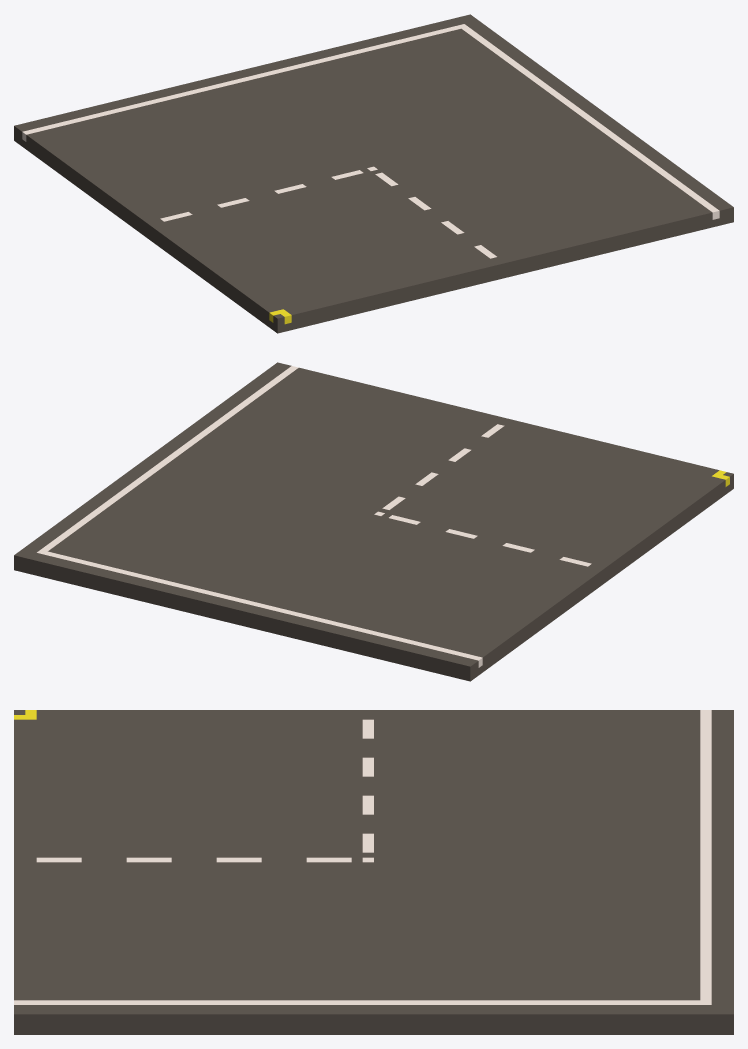
File: road_a_corner.obj
3 renders of one model, top to bottom at view 1: azimuth 30°, elevation 25°; view 2: azimuth 150°, elevation 25°; view 3: azimuth 270°, elevation 25°, orthographic. The views are drawn at different scales.
Size of the model in its own units: 6.4 by 0.2 by 6.4.
1 material, 1 textured.
